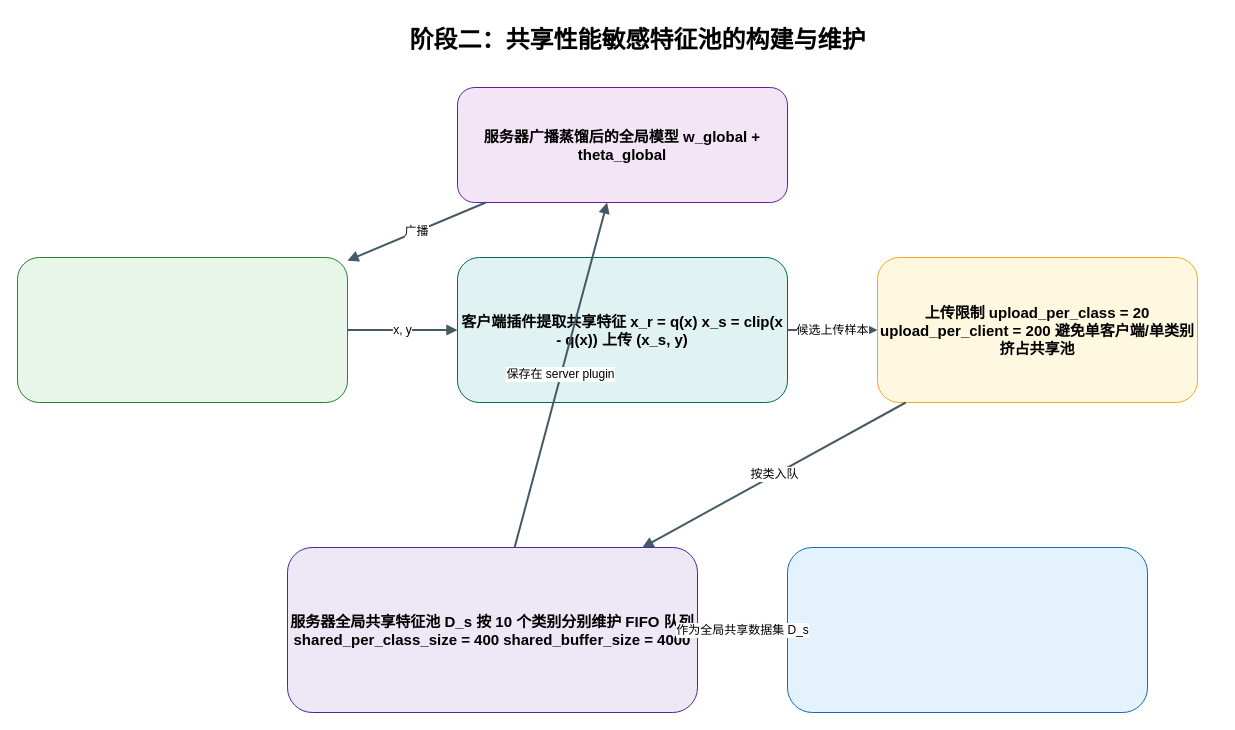
The diagram is 1235 pixels wide and 730 high, and some of its shapes have lost their labels. Each missing label, with the centre of its shape:
"它补什么？ 补每个客户端缺失/稀少类别的性能敏感特征 让后续本地训练看到更接近全局的类别信息" belongs at pixel 967 629.
"所有客户端参与收集 每个 client 用本地 D_k 生成 x_s 不再训练，只 collect_shared_batch" belongs at pixel 182 329.
